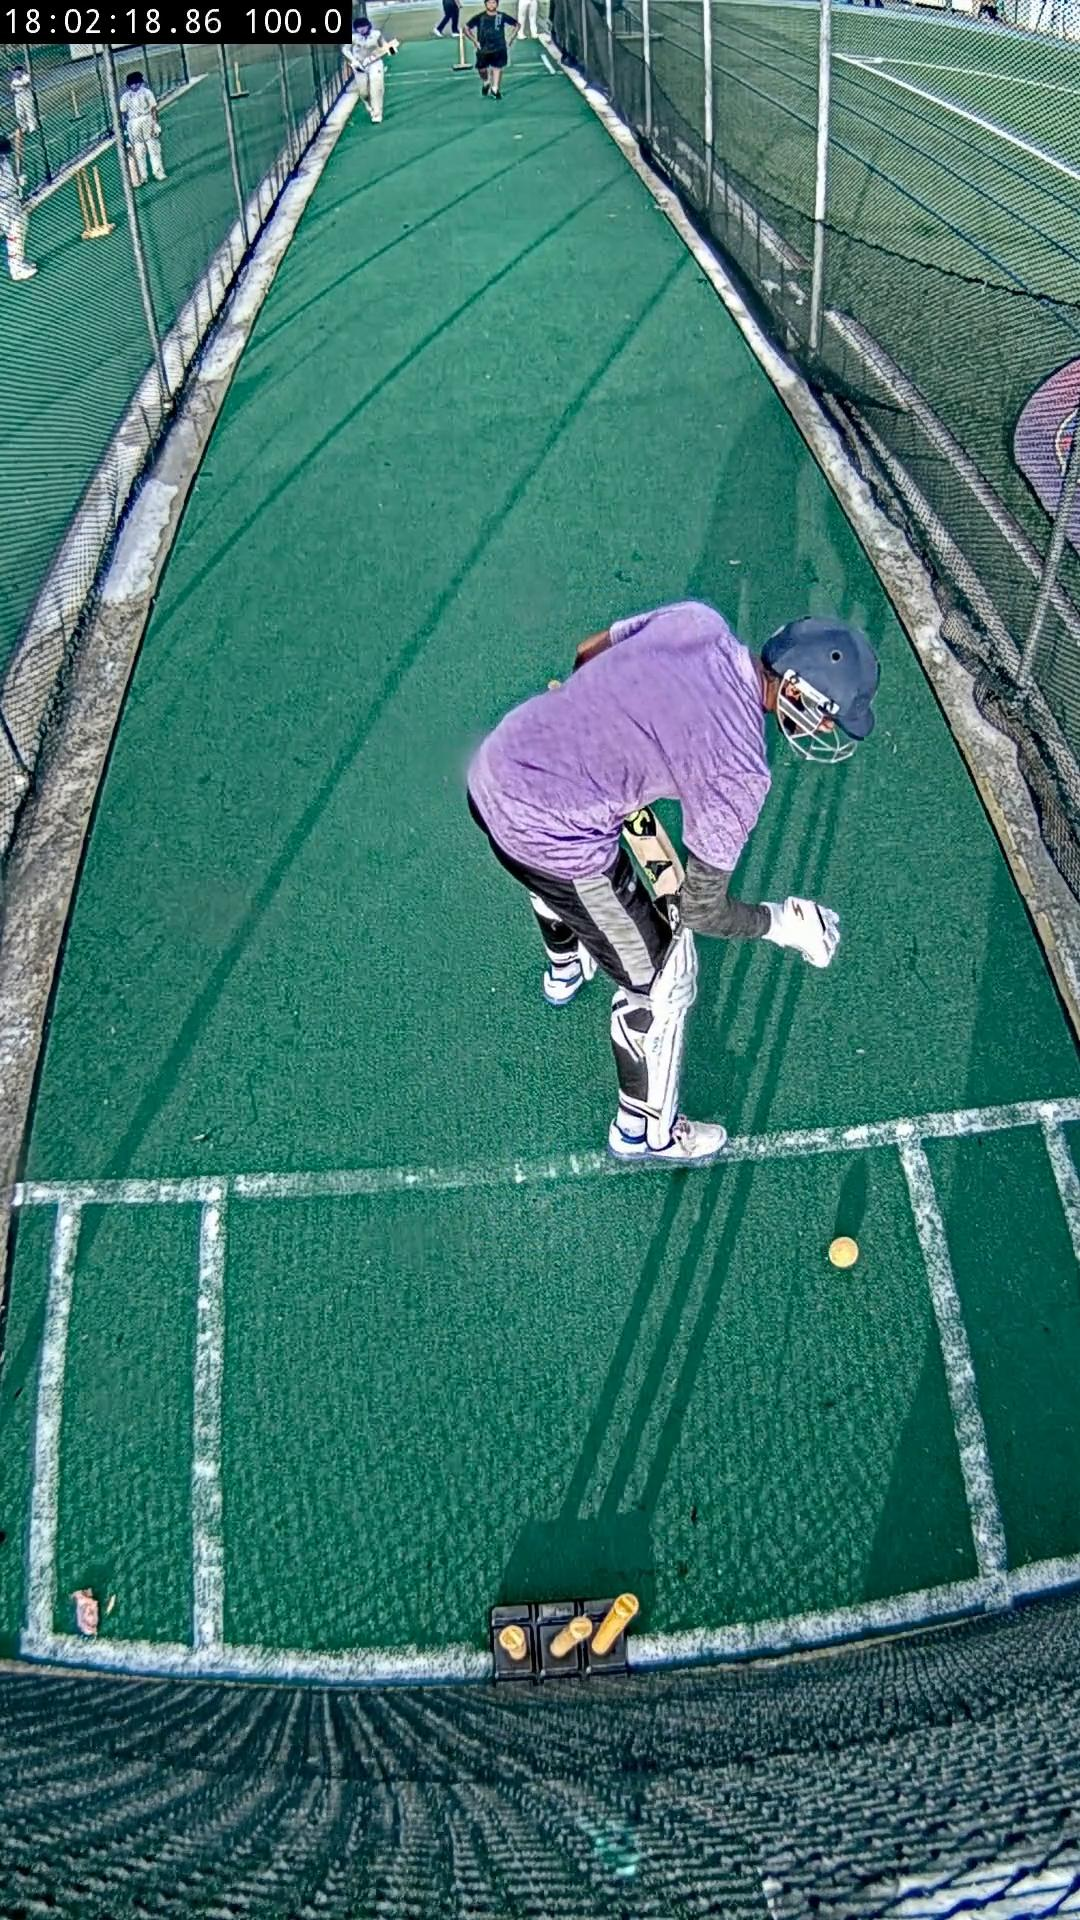ball: (828, 1237, 858, 1267)
bat: (622, 806, 686, 898)
gloves: (765, 897, 840, 968)
helmet: (765, 618, 877, 761)
pads: (641, 926, 698, 1147)
stumps: (492, 1594, 641, 1680)
